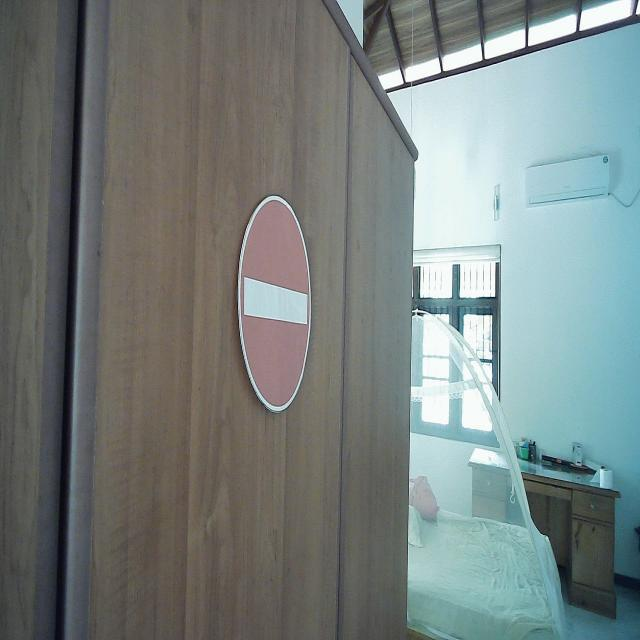no_entry: (236, 192, 312, 415)
